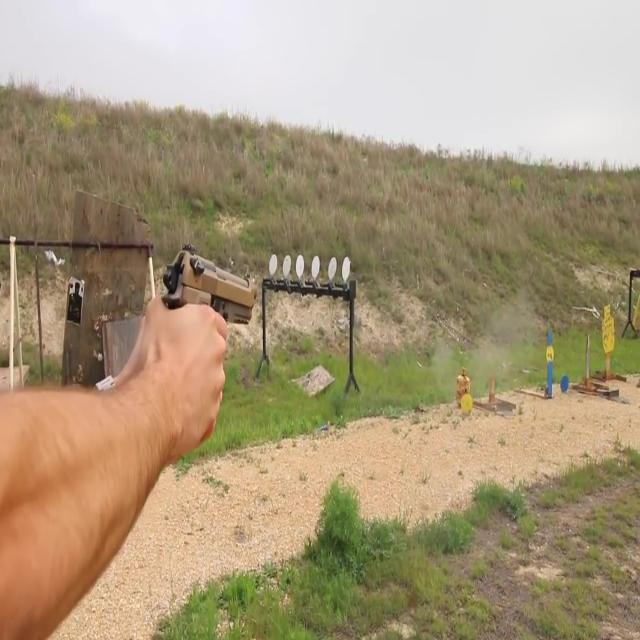Weapon: (122, 238, 304, 350)
